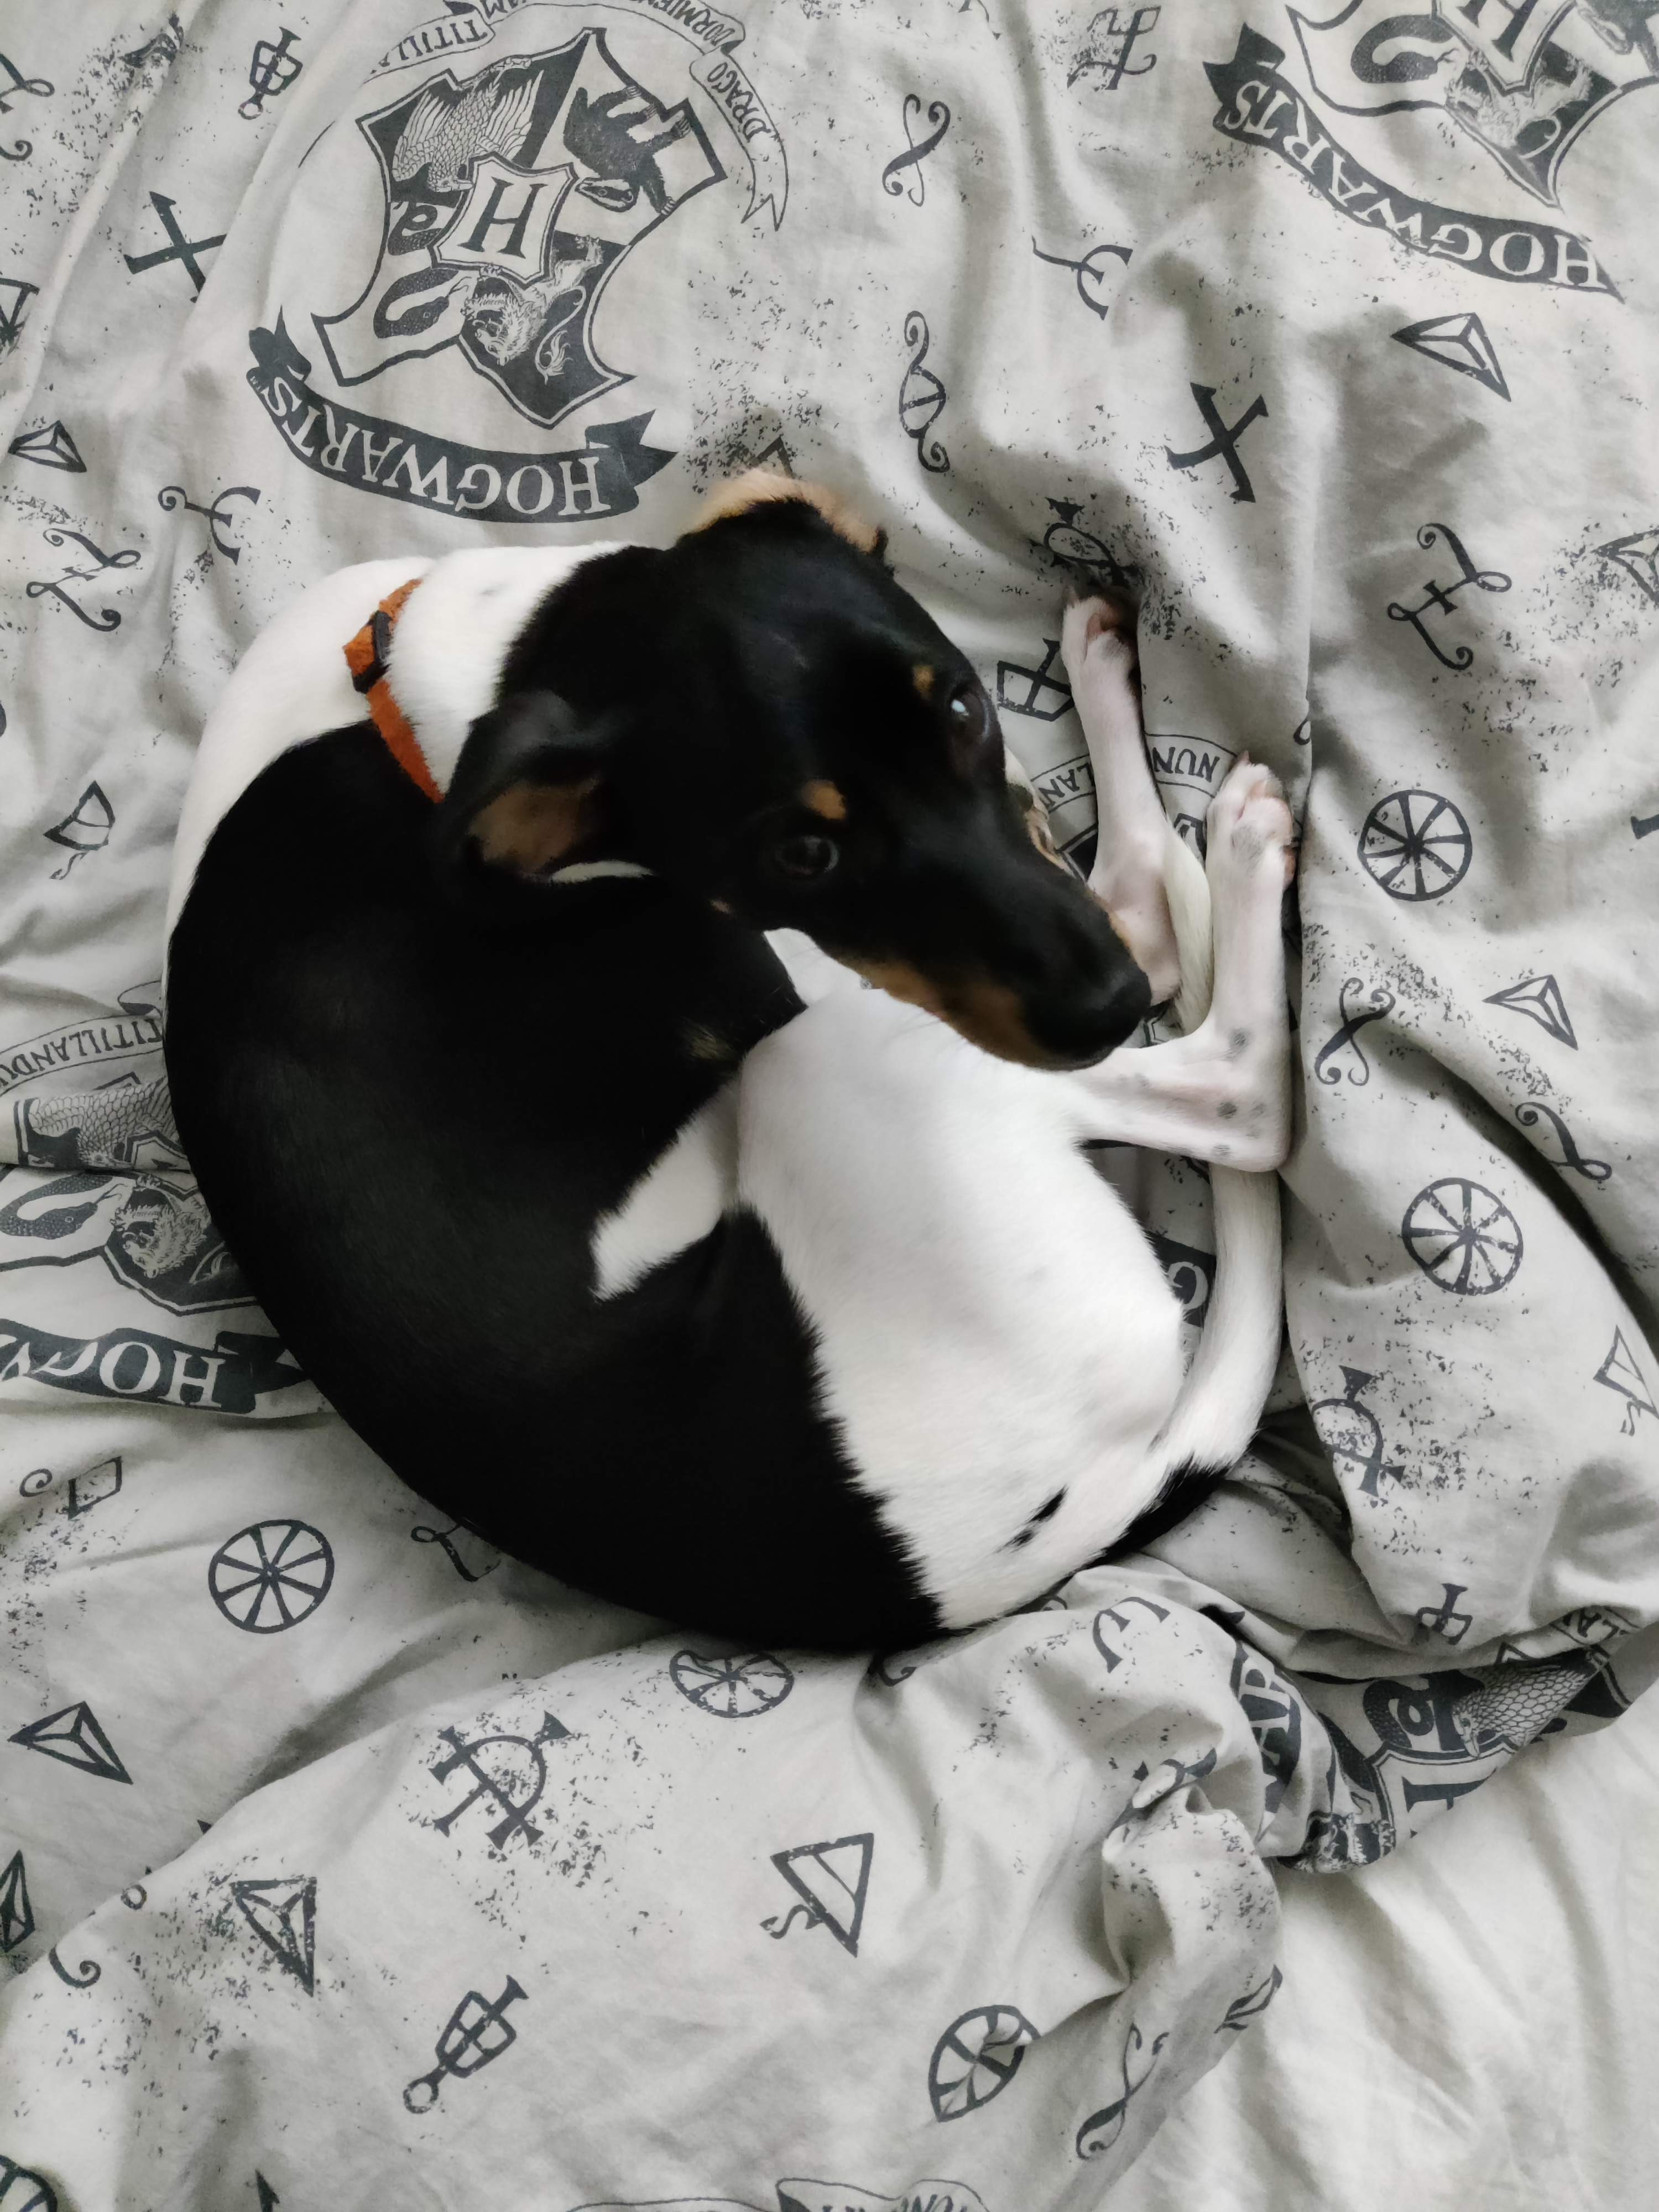Dog: (112, 430, 1347, 1655)
